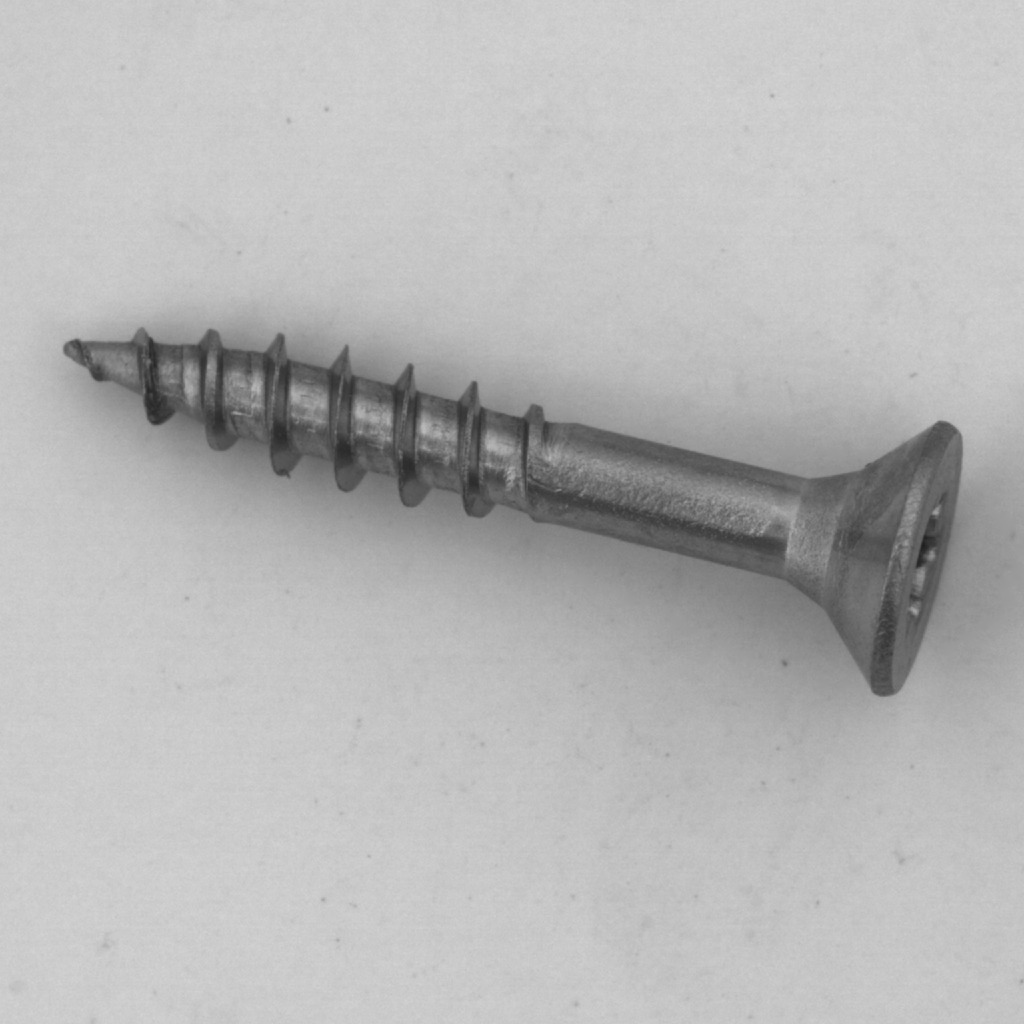good: (41, 315, 977, 715)
